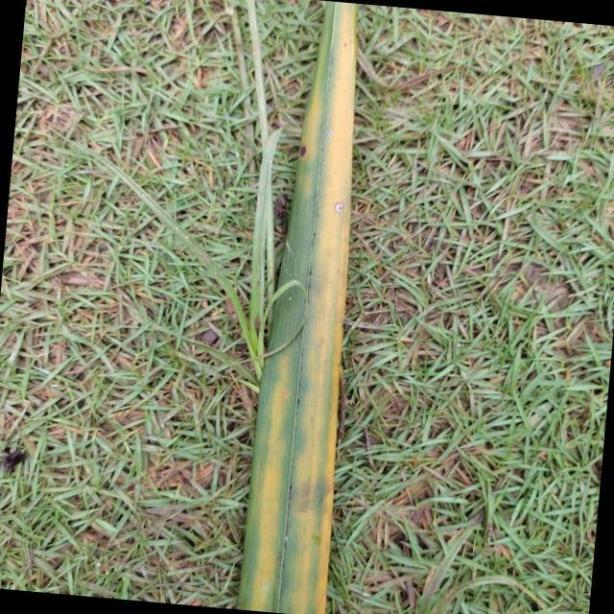Megnesium: (246, 0, 355, 614)
